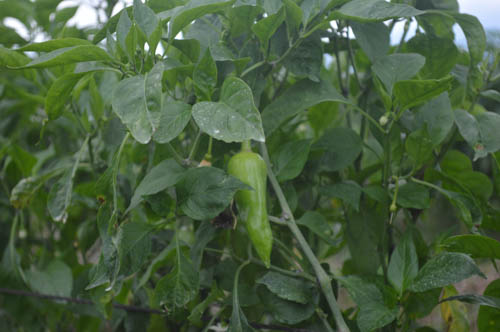ChiliPepper: (229, 148, 277, 264)
